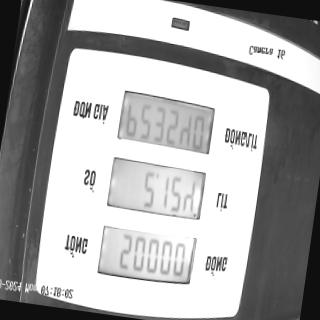screen: (94, 85, 218, 292)
